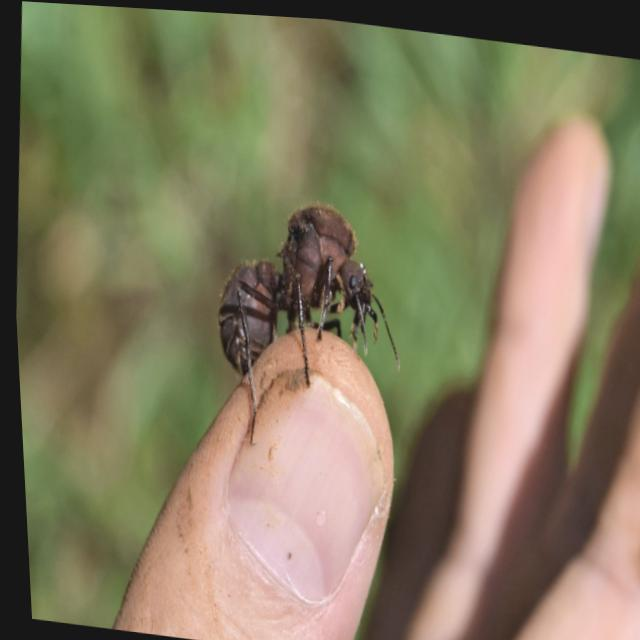Alive-Female-Dealate: (199, 183, 411, 461)
